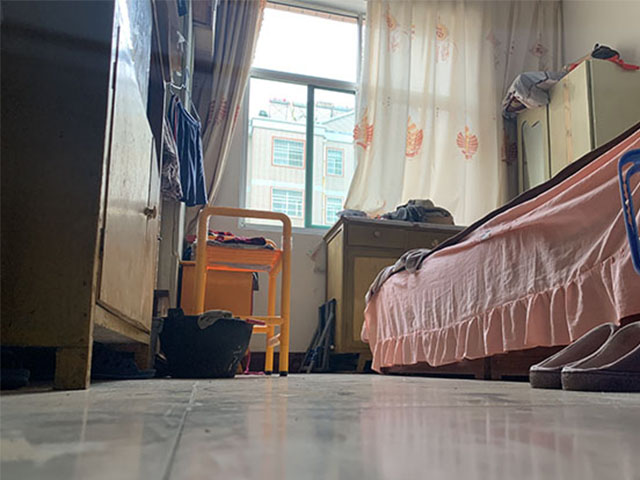bed: (360, 117, 640, 380)
cabinet: (1, 1, 175, 390), (322, 214, 468, 373)
slippers: (527, 321, 616, 395), (561, 320, 640, 393)
